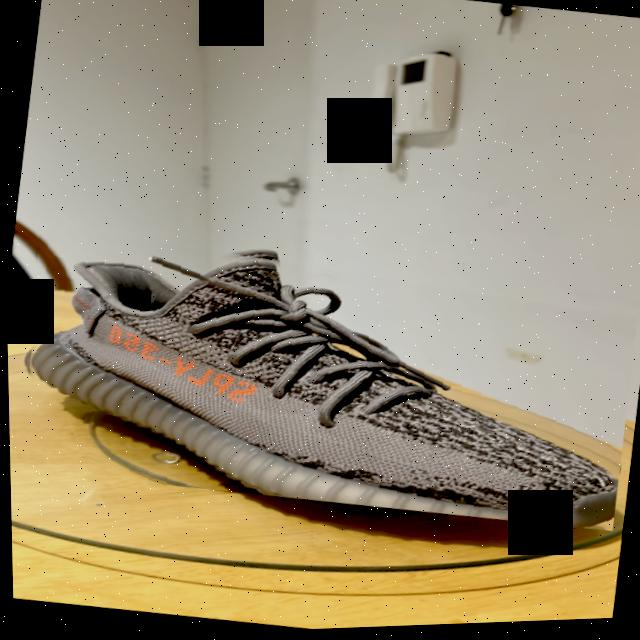shoe: (4, 208, 640, 554)
